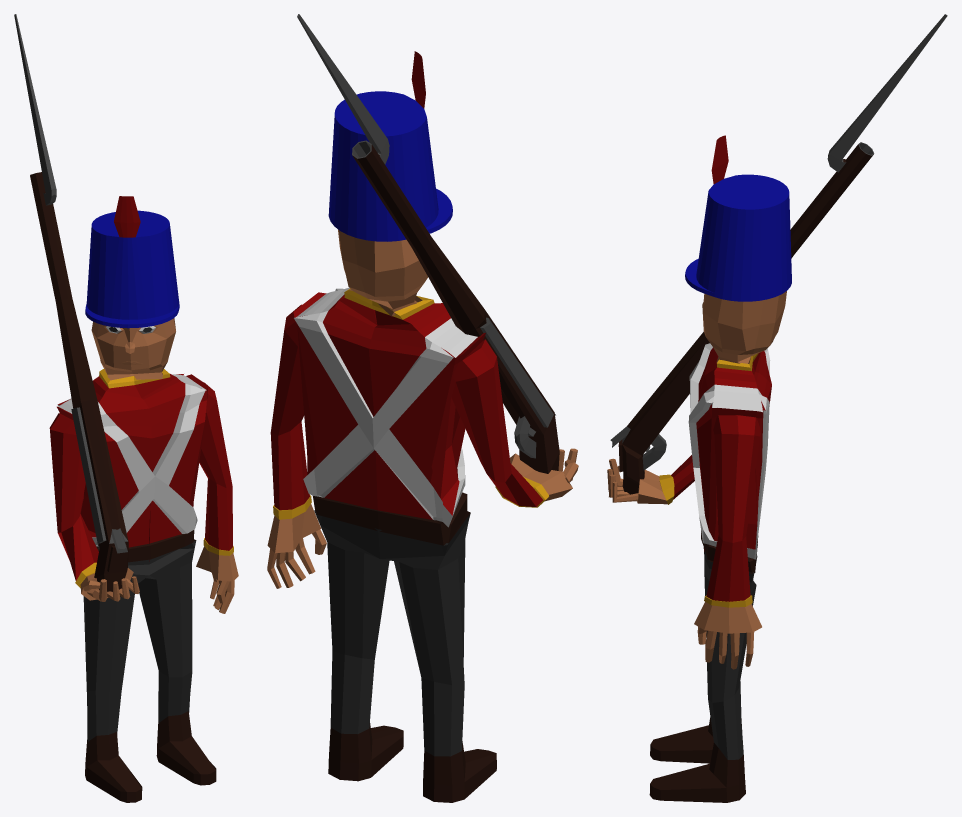
Rendered from Frame2.obj.
The picture shows the model from 3 angles, left to right: view 1: azimuth 30°, elevation 25°; view 2: azimuth 150°, elevation 25°; view 3: azimuth 270°, elevation 25°; orthographic projection. The views are drawn at different scales.
Visible parts, largest first — view 1: {Man}_Circle, {Mesket}_Cube.001; view 2: {Man}_Circle, {Mesket}_Cube.001; view 3: {Man}_Circle, {Mesket}_Cube.001.
Boxes of the visible parts, x1,y1,x2,y2 form: {Man}_Circle: (49, 196, 238, 802); {Mesket}_Cube.001: (14, 14, 128, 591); {Man}_Circle: (267, 51, 578, 802); {Mesket}_Cube.001: (297, 14, 559, 473); {Man}_Circle: (607, 135, 791, 802); {Mesket}_Cube.001: (610, 14, 947, 494).
Size of the model in its own units: 5.77 by 19.52 by 8.03.
